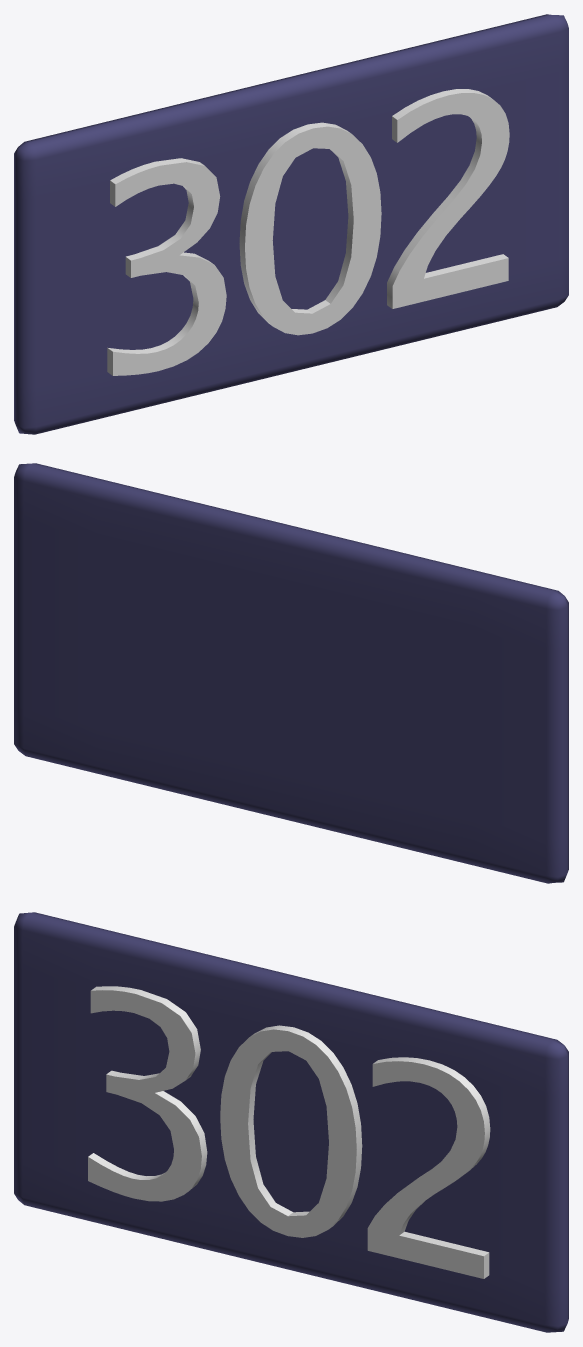
The model's file is room_302.fbx.
3 renders of one model, top to bottom at view 1: azimuth 30°, elevation 25°; view 2: azimuth 150°, elevation 25°; view 3: azimuth 330°, elevation 25°, orthographic.
Parts seen in each view (by area): view 1: typeMesh4; view 2: typeMesh4; view 3: typeMesh4.
Boxes of the visible parts, box(x1,y1,x2,y2) form: typeMesh4: box(14, 14, 568, 434); typeMesh4: box(14, 463, 568, 883); typeMesh4: box(14, 912, 568, 1332).
Bounding box in the file's own units: 2.21 × 1.11 × 0.134.
